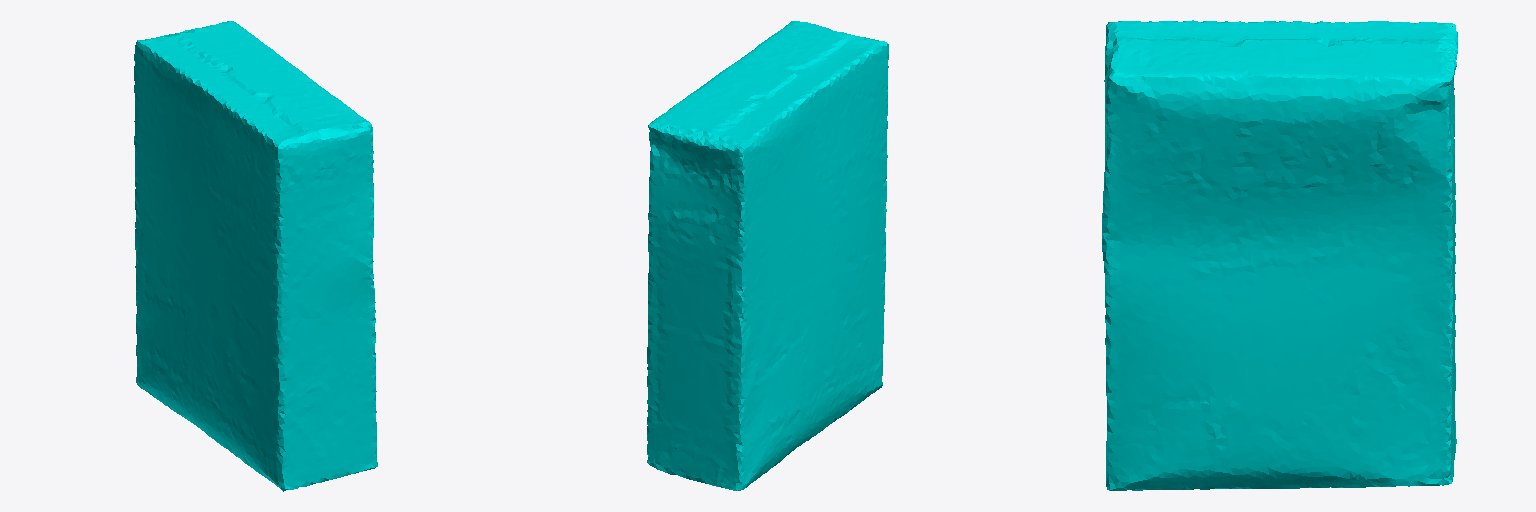
robot.urdf — obj_000002:
<?xml version="1.0" ?>
<robot name="obj_000002">
   <link name="base_link">
      <visual>
         <geometry>
            <mesh filename="package://agimus_demo_05_pick_and_place/urdf/tless/obj_02.obj" scale="0.001 0.001 0.001"/>
         </geometry>
         <material name="mat_part0">
            <color rgba="0.0 0.9 0.9 1.0"/>
         </material>
      </visual>
      <collision>
         <geometry>
            <mesh filename="package://agimus_demo_05_pick_and_place/urdf/tless/obj_02.obj" scale="0.001 0.001 0.001"/>
         </geometry>
      </collision>
      <inertial>
         <origin rpy="0 0 0" xyz="0.0 0.0 0.0"/>
         <mass value="0.1"/>
         <inertia ixx="1" ixy="0" ixz="0" iyy="1" iyz="0" izz="1"/>
      </inertial>
   </link>
</robot>

--- Facts derived from the render (not from the file) ---
Views: 3 orthographic renders of the robot side by side, from view 1: azimuth 30°, elevation 25°; view 2: azimuth 150°, elevation 25°; view 3: azimuth 270°, elevation 25°.
Model obj_000002 with 1 links and 0 joints (none), rooted at base_link, posed every joint at zero.
Visible links, largest first — view 1: base_link; view 2: base_link; view 3: base_link.
Link boxes in pixels (<box>): base_link: <box>134,21,377,491</box>; base_link: <box>647,21,888,490</box>; base_link: <box>1102,20,1457,490</box>.
Bounding box of the posed robot: 0.0001 × 0.0002 × 0.0002 m (x, y, z).
1 mesh visuals loaded from 1 distinct referenced files (1 OBJ).
